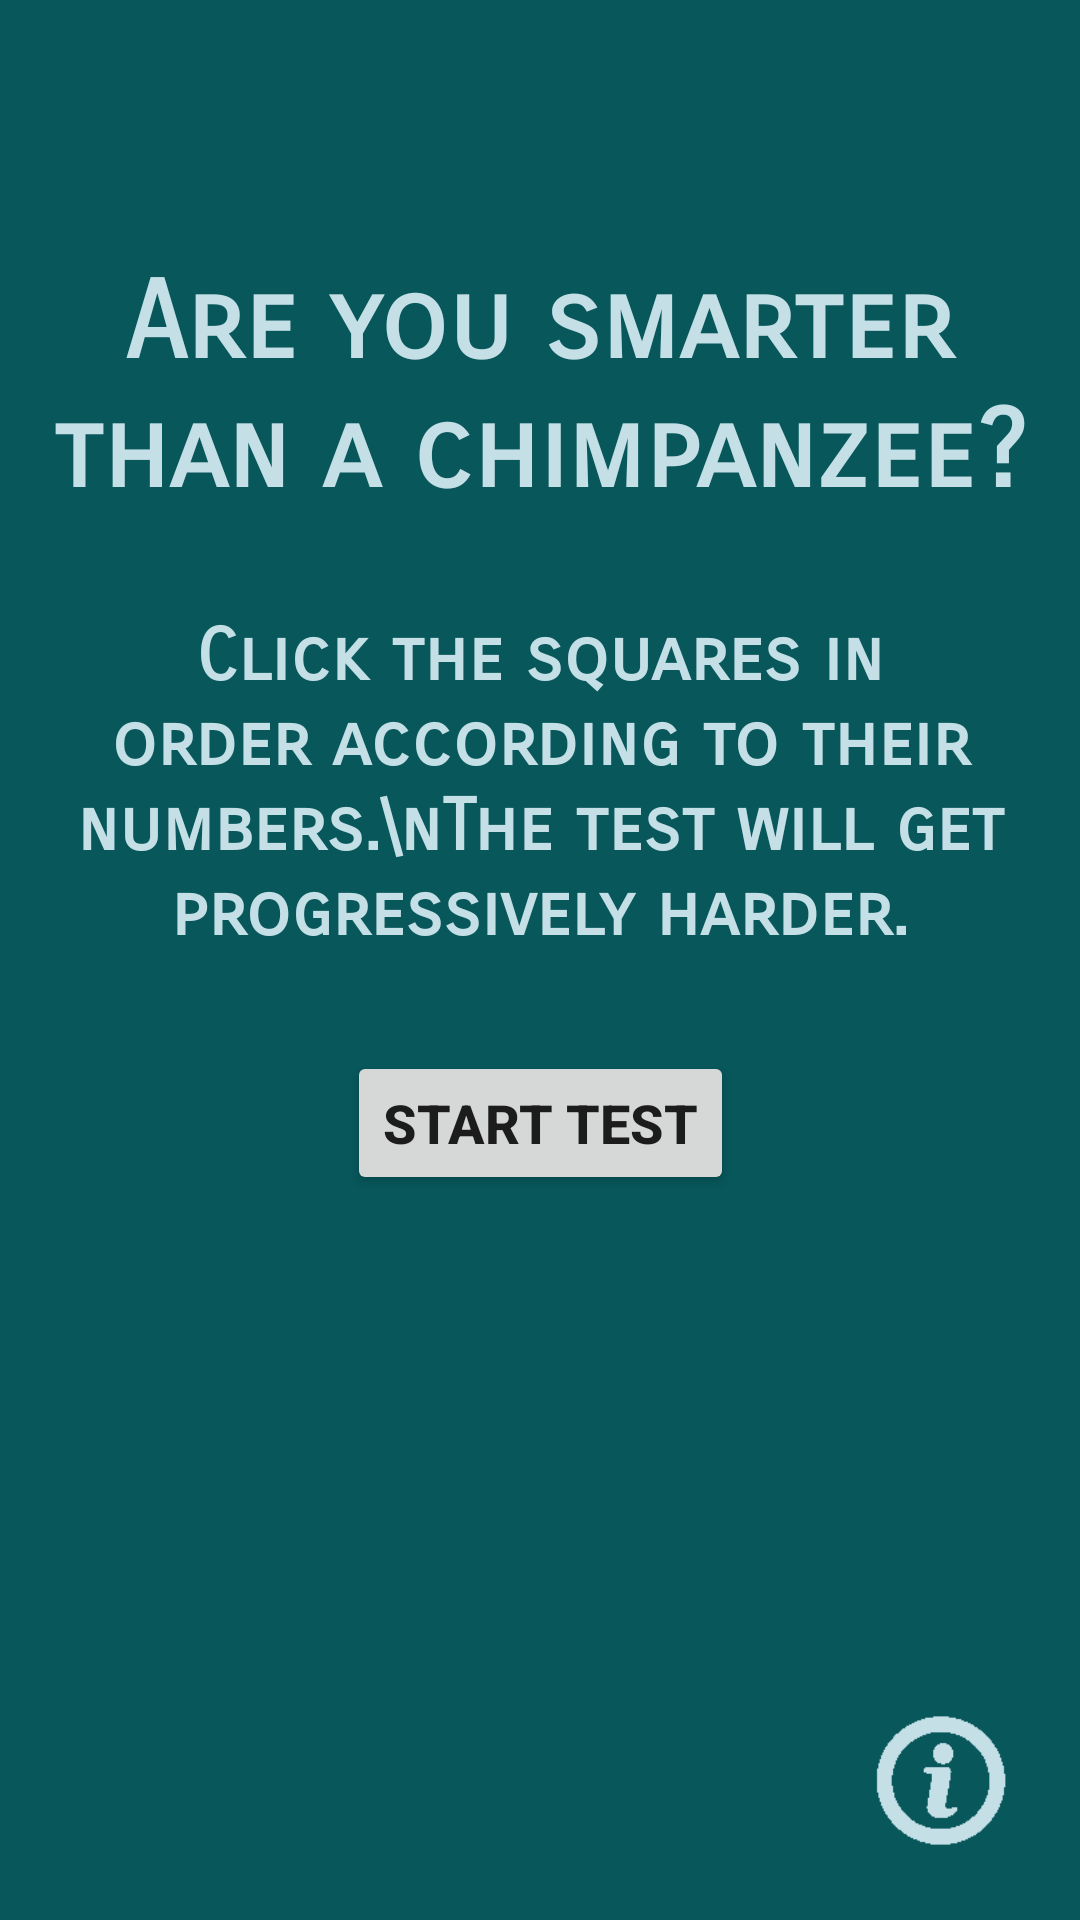

Screen size 1080 × 1920. Icon name, then its box in pixels as (x1, y1, x2, y2):
info: (877, 1716, 1006, 1845)
